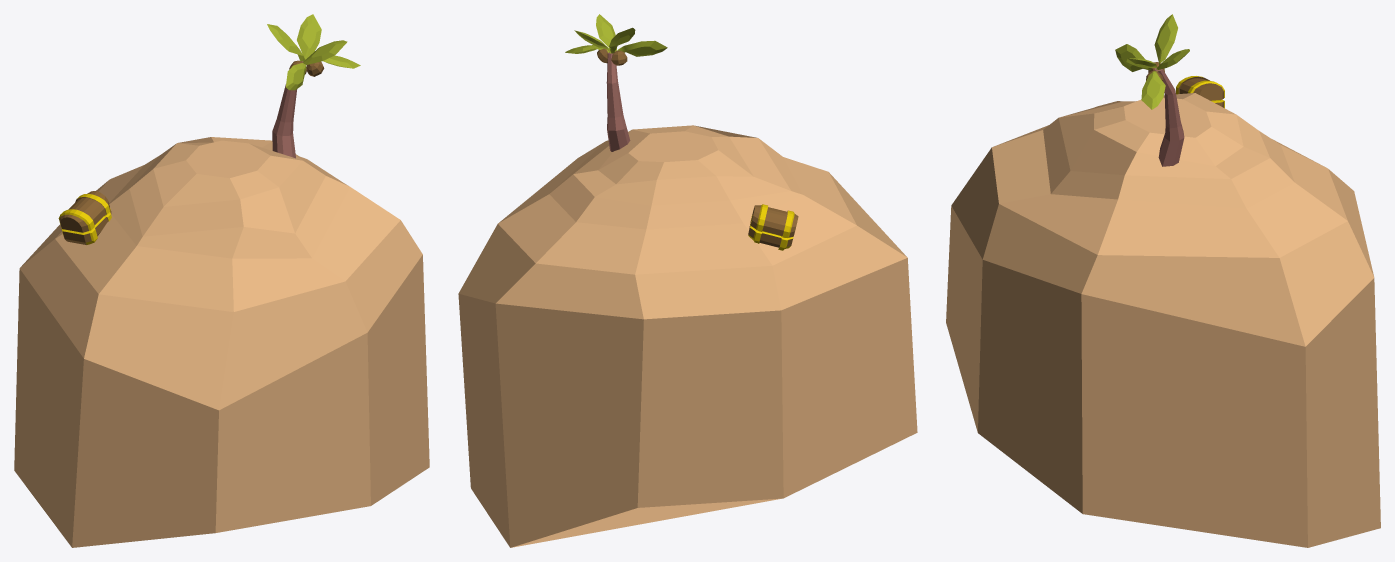
Rendered from treasure.fbx.
3 views of the same model, side by side, from view 1: azimuth 30°, elevation 25°; view 2: azimuth 150°, elevation 25°; view 3: azimuth 270°, elevation 25° (orthographic). The views are drawn at different scales.
Parts seen in each view (by area): view 1: polySurface1; view 2: polySurface1; view 3: polySurface1.
Part boxes in pixels (<box>): polySurface1: <box>14,14,429,547</box>; polySurface1: <box>458,14,917,547</box>; polySurface1: <box>946,14,1380,547</box>.
Bounding box in the file's own units: 25.36 × 32.07 × 25.3.
